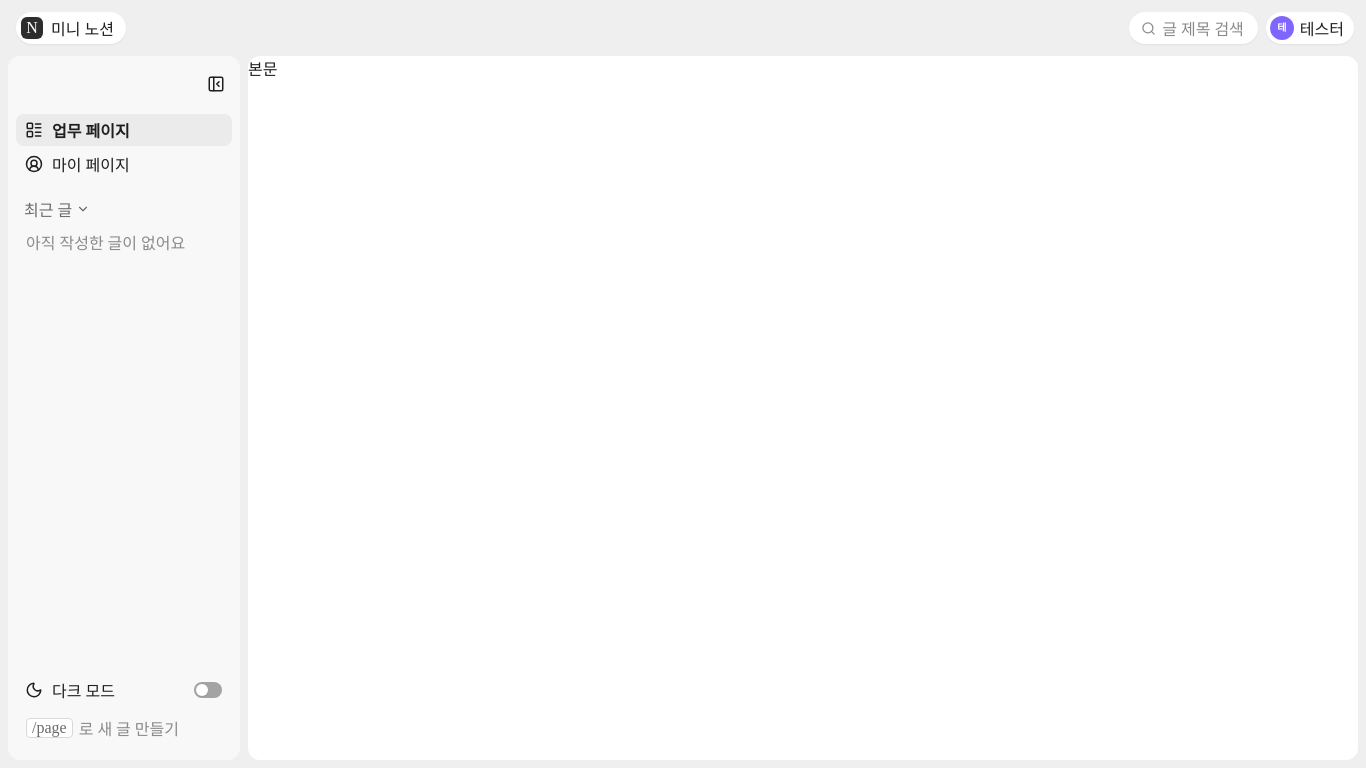
Scenario: 사이드바 접기/펼치기 › collapses on the first click and expands on the second
The width and height of the screenshot is (1366, 768).
Click the button named "사이드바 접기" at (216, 84), box x1=200 y1=68 x2=232 y2=100
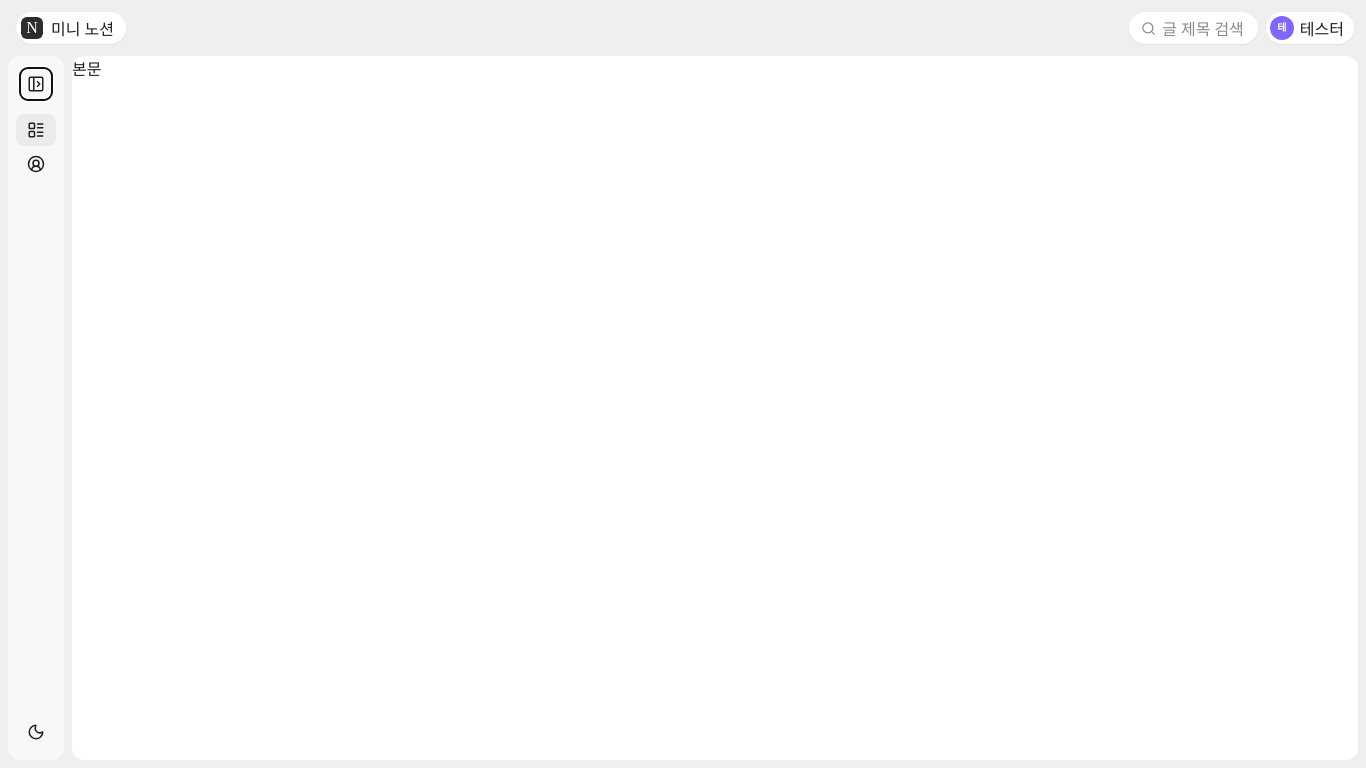
Expected: the link named "업무 페이지" is shown, x1=16 y1=114 x2=56 y2=146
Expected: the button named "사이드바 펼치기" is collapsed
Click the button named "사이드바 펼치기" at (36, 84), box x1=20 y1=68 x2=52 y2=100
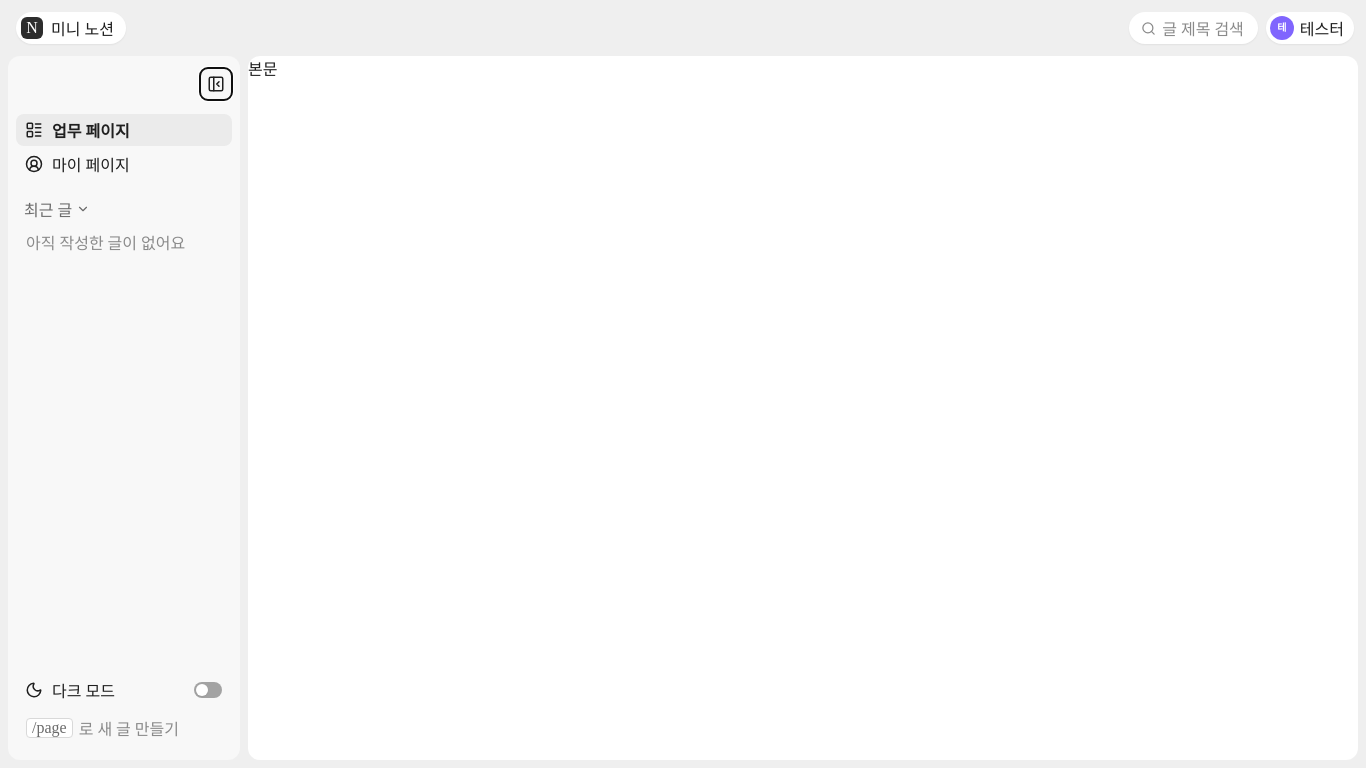
Expected: the button named "사이드바 접기" is expanded, x1=200 y1=68 x2=232 y2=100
